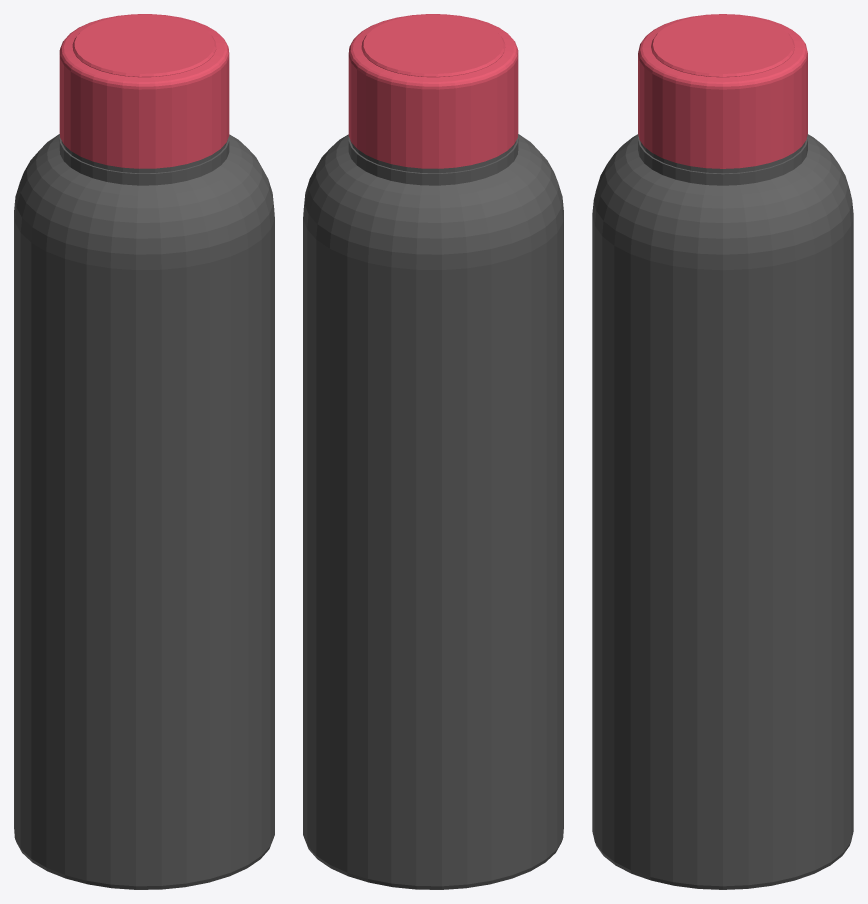
Rendered from cap-seperated-bottle.glb.
The picture shows the model from 3 angles, left to right: view 1: azimuth 30°, elevation 25°; view 2: azimuth 150°, elevation 25°; view 3: azimuth 270°, elevation 25°; orthographic projection.
Visible parts, largest first — view 1: Cylinder, Cylinder.001; view 2: Cylinder, Cylinder.001; view 3: Cylinder, Cylinder.001.
Boxes of the visible parts, <box> form: Cylinder: <box>14,134,274,889</box>; Cylinder.001: <box>59,14,229,168</box>; Cylinder: <box>303,134,563,889</box>; Cylinder.001: <box>348,14,518,168</box>; Cylinder: <box>592,134,853,889</box>; Cylinder.001: <box>638,14,807,168</box>.
Bounding box in the file's own units: 6 × 20.07 × 6.
